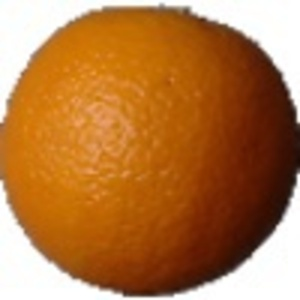laranja: (3, 6, 297, 294)
